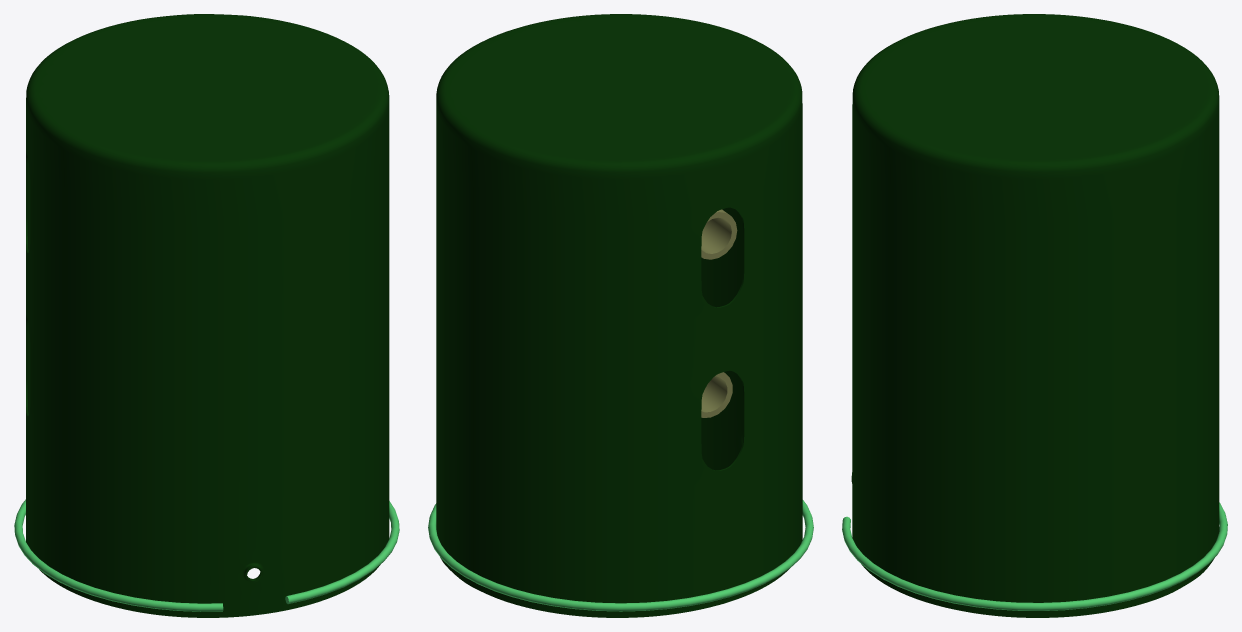
The model's file is bank5.fbx.
3 views of the same model, side by side, from view 1: azimuth 30°, elevation 25°; view 2: azimuth 150°, elevation 25°; view 3: azimuth 270°, elevation 25° (orthographic).
Visible parts, largest first — view 1: bank5_LOD0; view 2: bank5_LOD0; view 3: bank5_LOD0.
Boxes of the visible parts, x1,y1,x2,y2 form: bank5_LOD0: (14, 14, 399, 617); bank5_LOD0: (428, 14, 813, 617); bank5_LOD0: (842, 14, 1227, 617).
Size of what is drawn, in the model's own units: 2.91 by 3.76 by 2.91.
